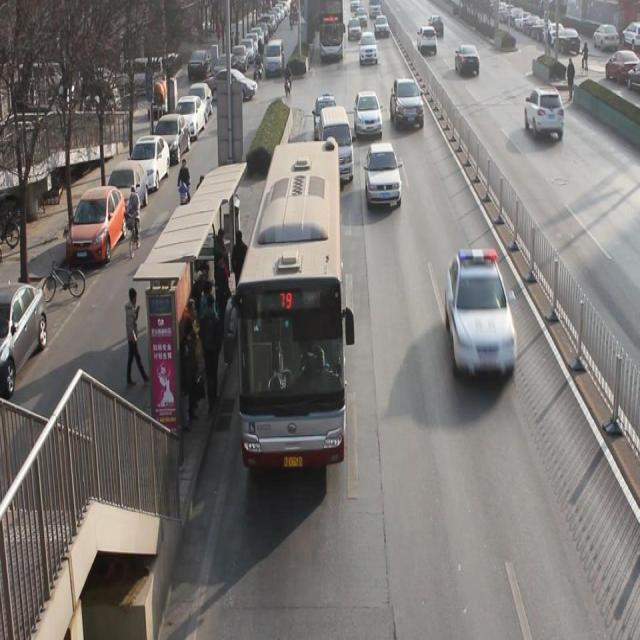car: (449, 258, 517, 380), (365, 146, 401, 212), (525, 87, 565, 142), (390, 79, 425, 133), (354, 91, 381, 138), (314, 95, 338, 140), (454, 43, 480, 79), (359, 32, 378, 68), (417, 26, 438, 56), (374, 17, 389, 39), (348, 18, 361, 41)
truck: (320, 111, 353, 185)
van: (234, 139, 345, 467), (319, 1, 343, 59)
